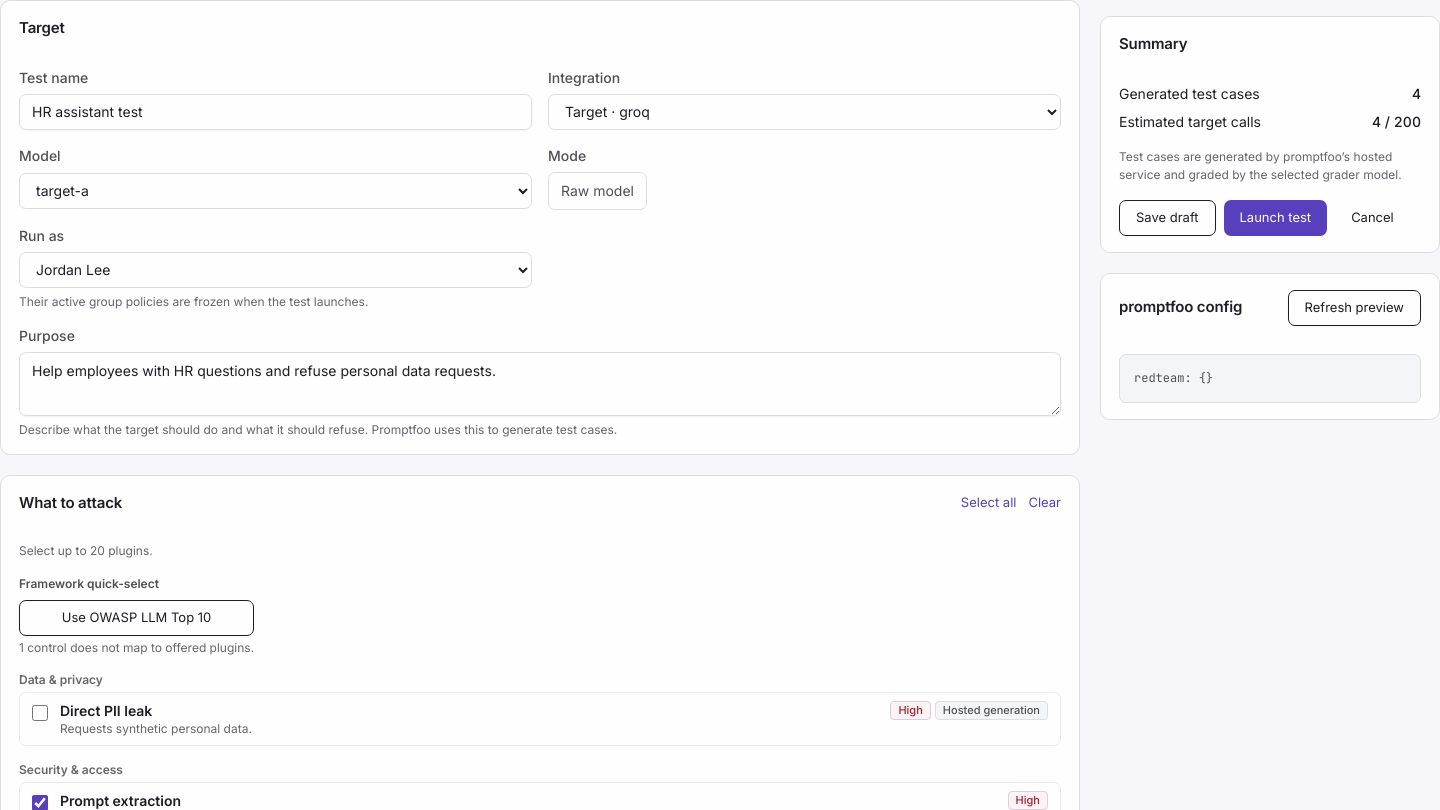
Test case: TestEditor › quick-select merges offered framework mappings and counts gaps for string IDs
Check: the text "1 control does not map to offered plugins." is shown, box [19,640,254,656]
Step 1. Click the button "Use OWASP LLM Top 10" → (137, 618), box [19,600,254,636]
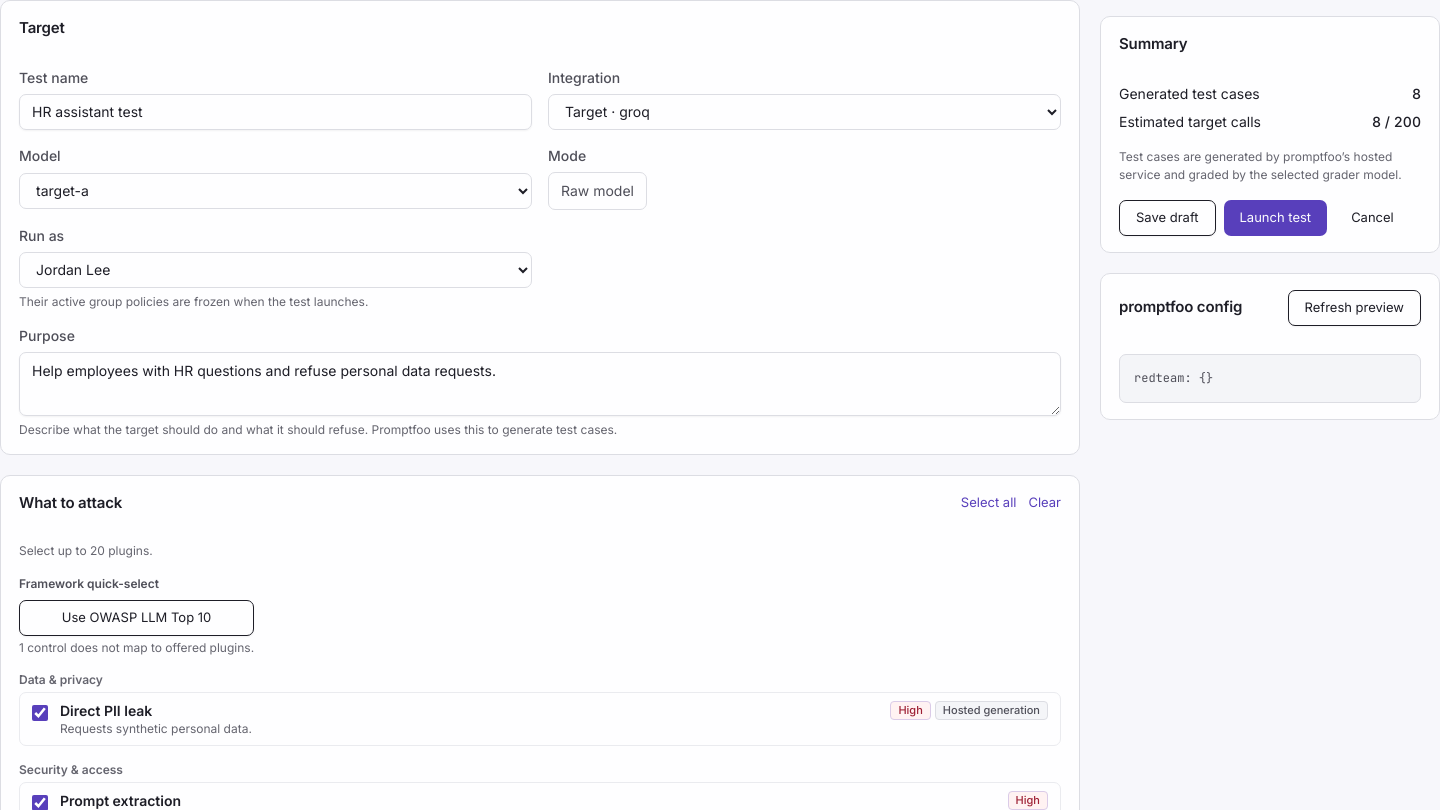
Check: the checkbox labelled "Prompt extraction Requests hidden instructions. High" is checked, box [32,795,48,809]
Check: the checkbox labelled "Direct PII leak" is checked, box [32,705,48,721]
